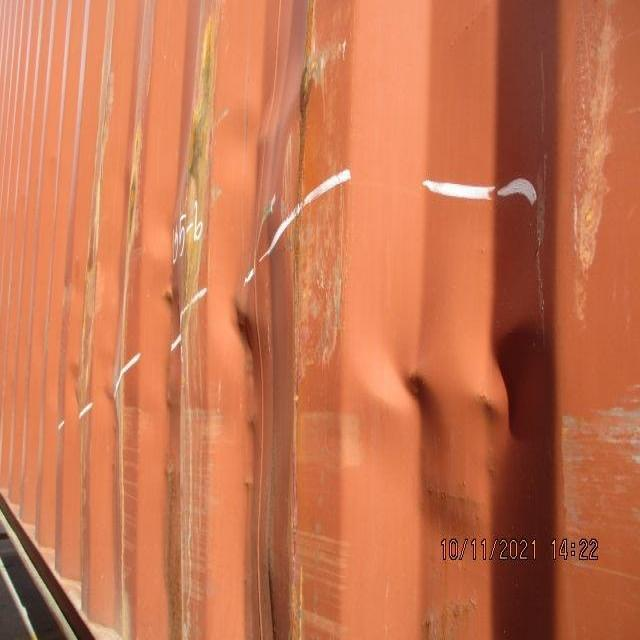Dent: (61, 77, 566, 511)
